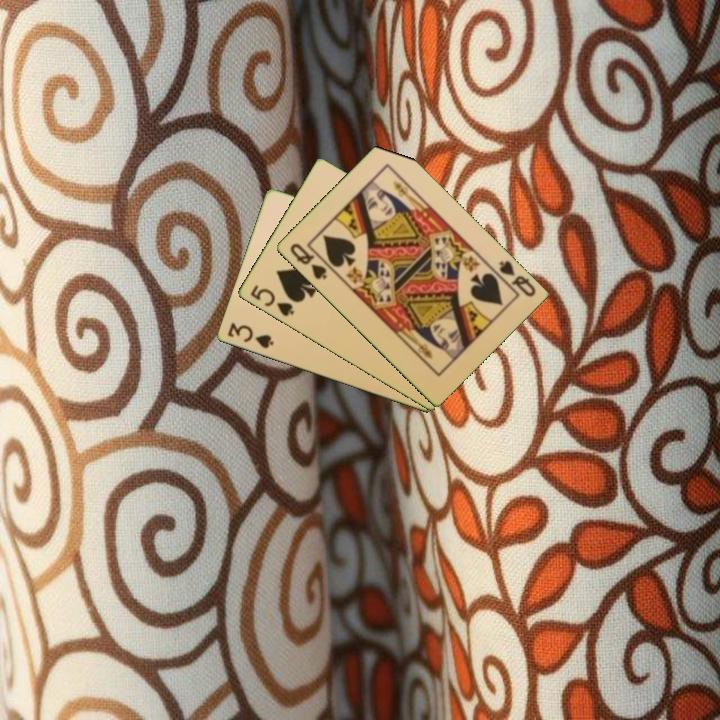3s: (224, 319, 276, 352)
5s: (246, 281, 297, 319)
Qs: (286, 239, 329, 283), (495, 257, 538, 300)
